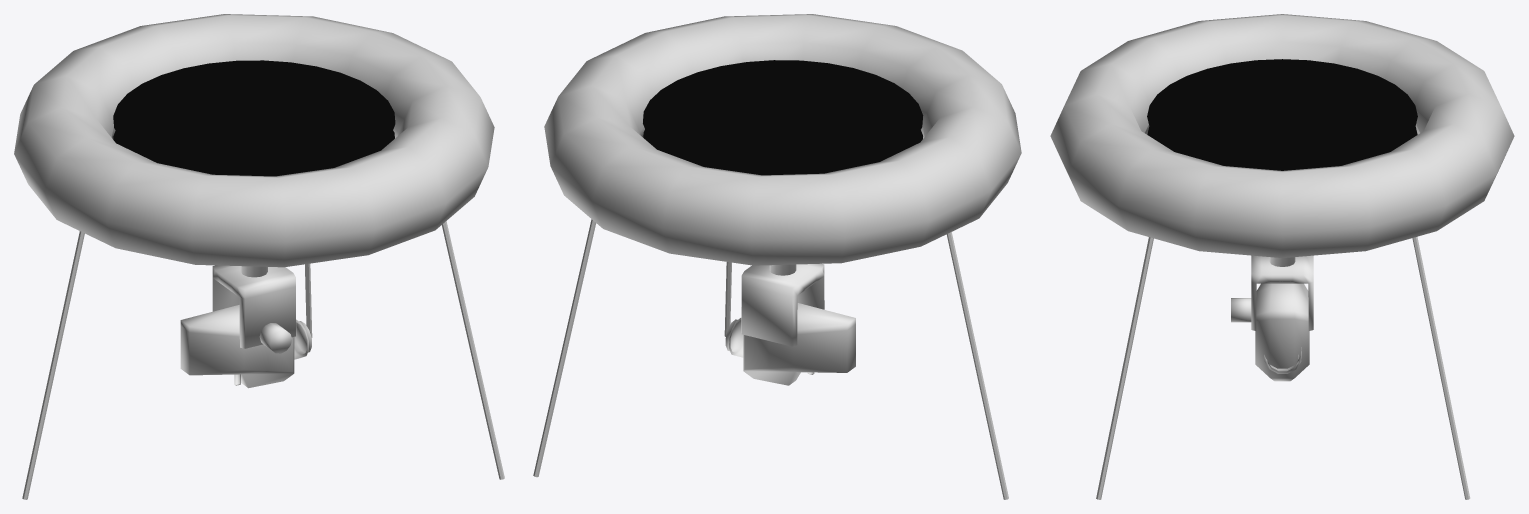
The model's file is uav.glb.
The picture shows the model from 3 angles, left to right: view 1: azimuth 30°, elevation 25°; view 2: azimuth 150°, elevation 25°; view 3: azimuth 270°, elevation 25°; orthographic projection. The views are drawn at different scales.
Parts seen in each view (by area): view 1: Body, TopBlade, X, Y; view 2: Body, TopBlade, X, Y; view 3: Body, TopBlade, X, Y.
Part boxes in pixels (x1,y1,x2,y2): Body: (14,14,504,499); TopBlade: (113,60,395,176); X: (180,305,311,388); Y: (212,265,296,353); Body: (533,14,1021,499); TopBlade: (643,60,923,175); X: (725,303,855,385); Y: (741,263,824,346); Body: (1050,14,1514,499); TopBlade: (1147,59,1417,170); X: (1255,283,1309,381); Y: (1231,255,1313,330).
Size of the model in its own units: 2.61 by 1.99 by 2.5.
Materials: 2 (1 with a texture image).
